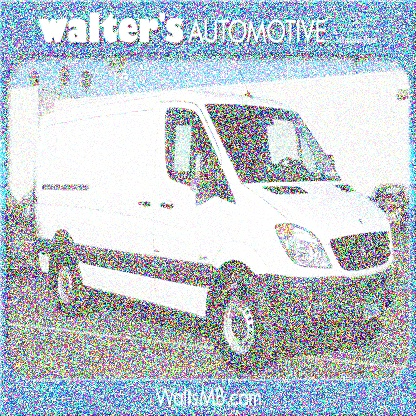Vehicle: (31, 53, 401, 375)
